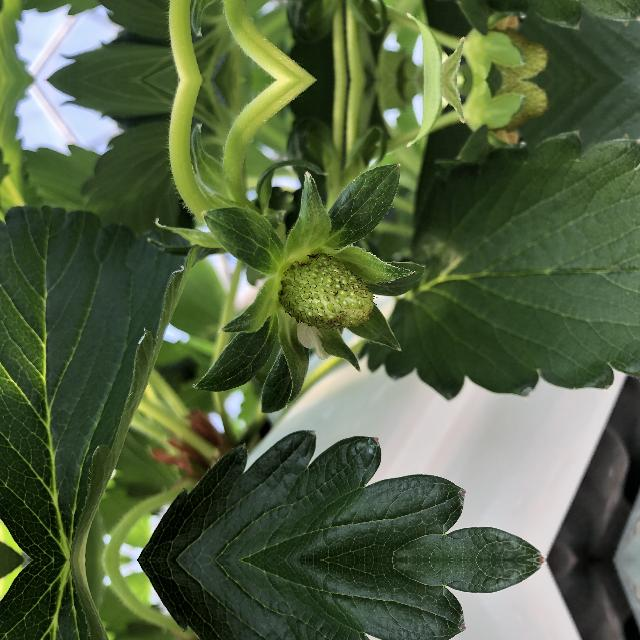Health_25: (274, 252, 380, 334)
